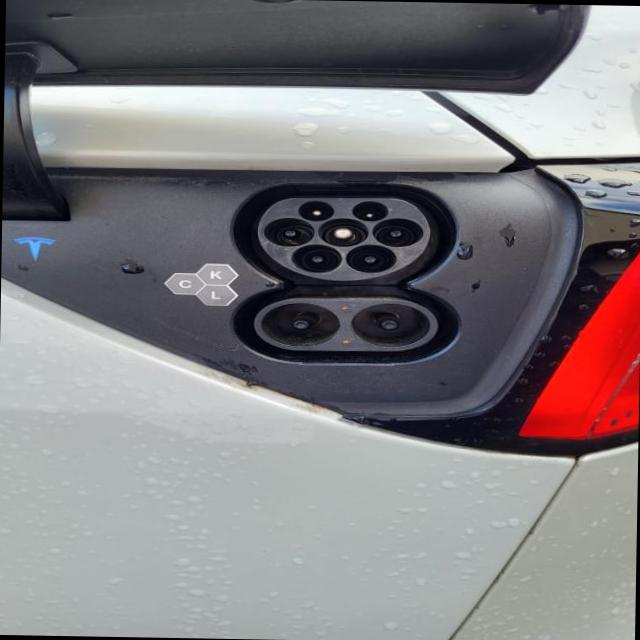inlet: (258, 197, 430, 280)
inlet-above-left: (297, 200, 334, 220)
inlet-above-right: (352, 201, 387, 221)
inlet-below-left: (292, 244, 342, 273)
inlet-below-right: (346, 244, 396, 271)
inlet-center: (317, 218, 368, 246)
inlet-center-left: (264, 217, 314, 246)
inlet-center-right: (372, 218, 423, 247)
